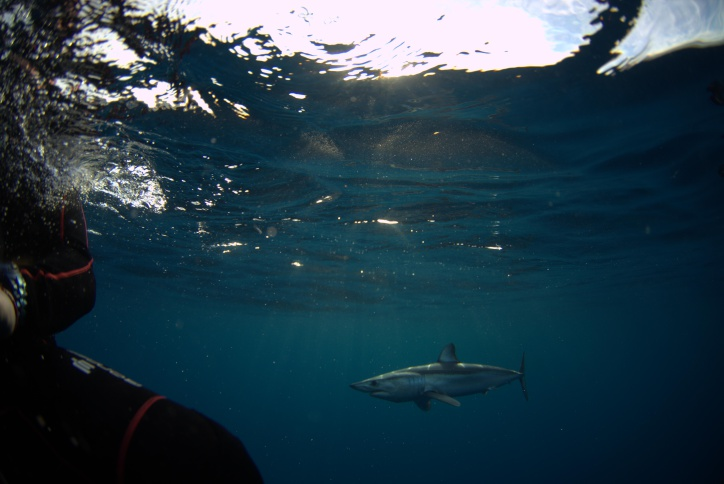Mako: (338, 337, 543, 420)
